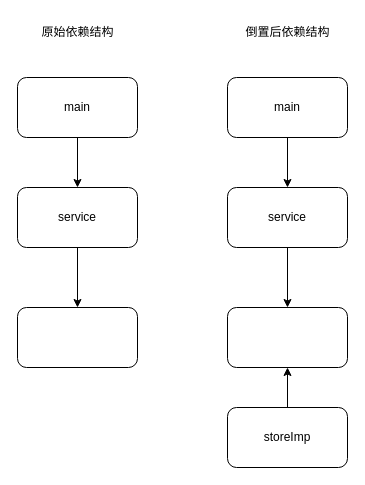
Image size: 365x485. Some labels were removed from this diagram. Each missing label, with the box of its shape:
localStorage: (16, 306, 138, 368)
store: (226, 306, 348, 368)
